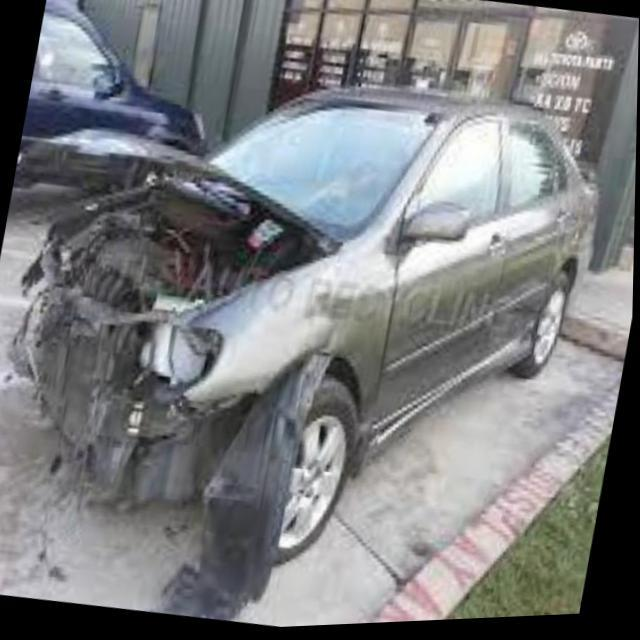no part: (17, 212, 351, 623)
